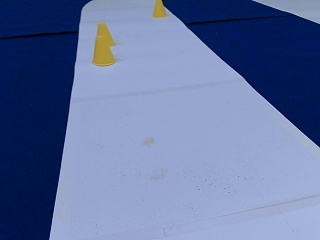cone: (90, 31, 115, 65), (95, 22, 114, 45), (152, 0, 166, 17)
